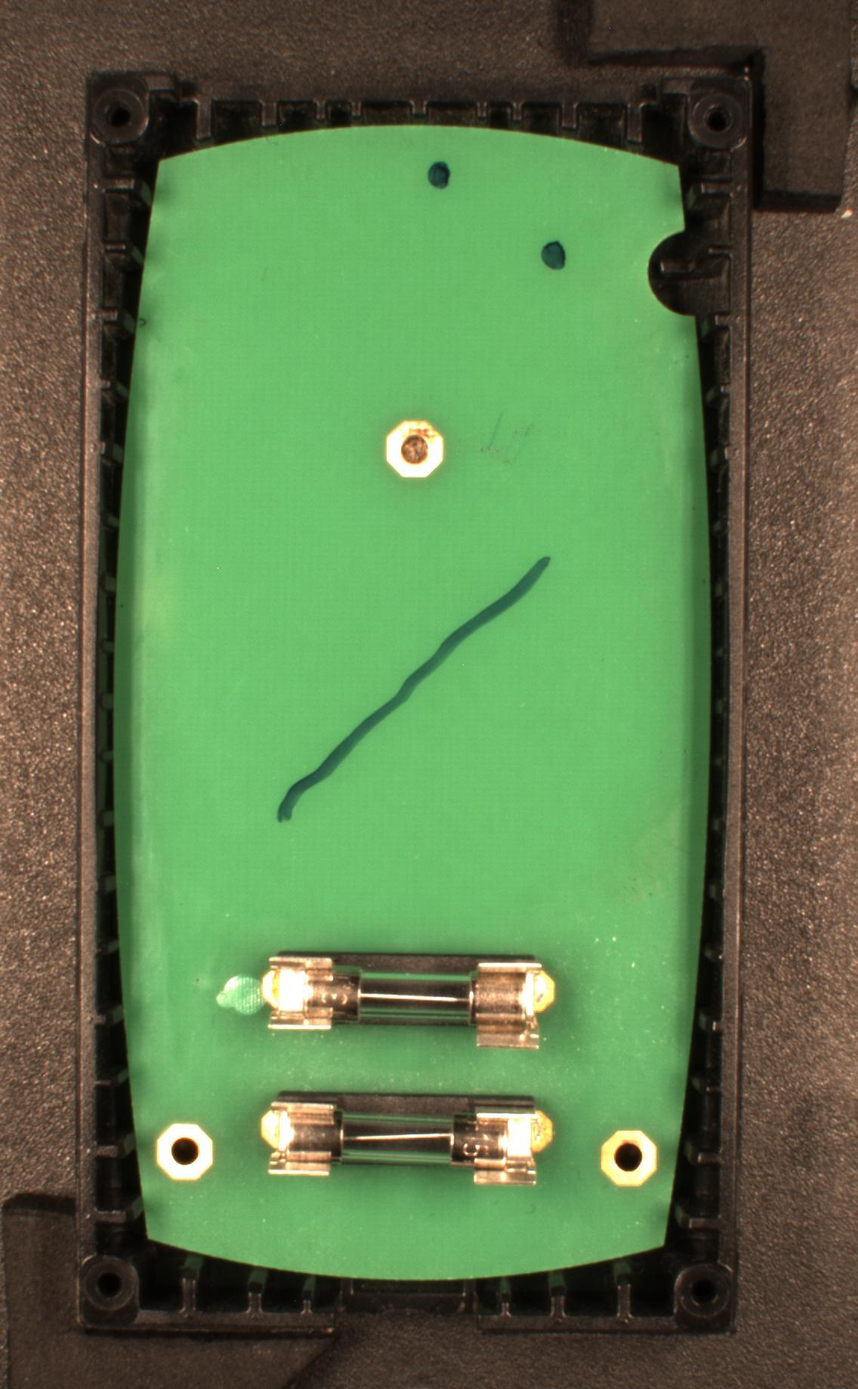Linijsko Ostecene: (275, 555, 553, 824)
Tockasto Ostecenje: (540, 238, 568, 273), (426, 159, 453, 191)
